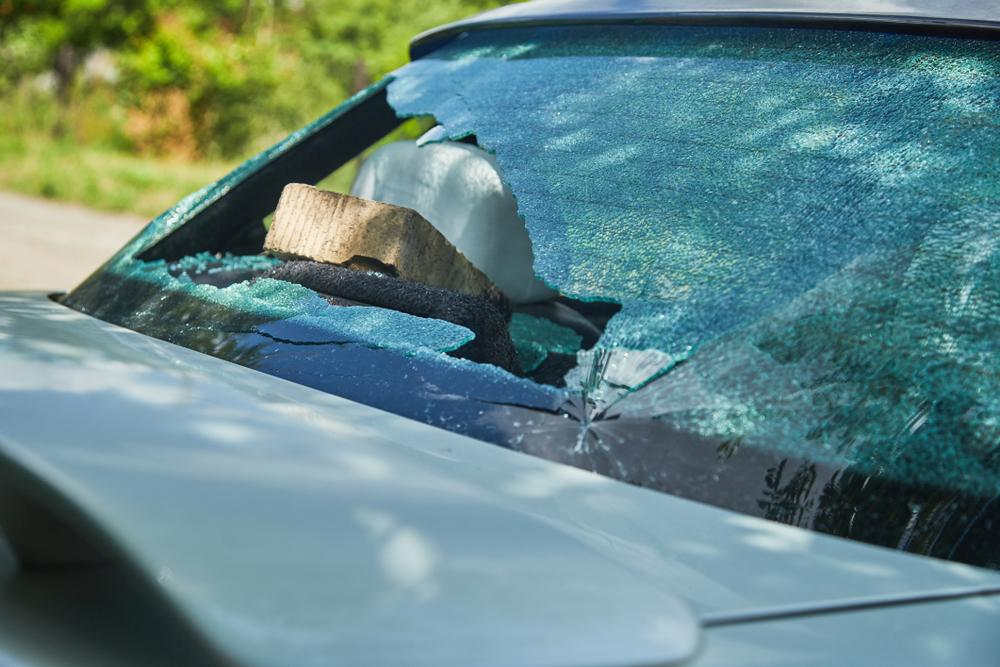glass shatter: (61, 22, 1000, 572)
